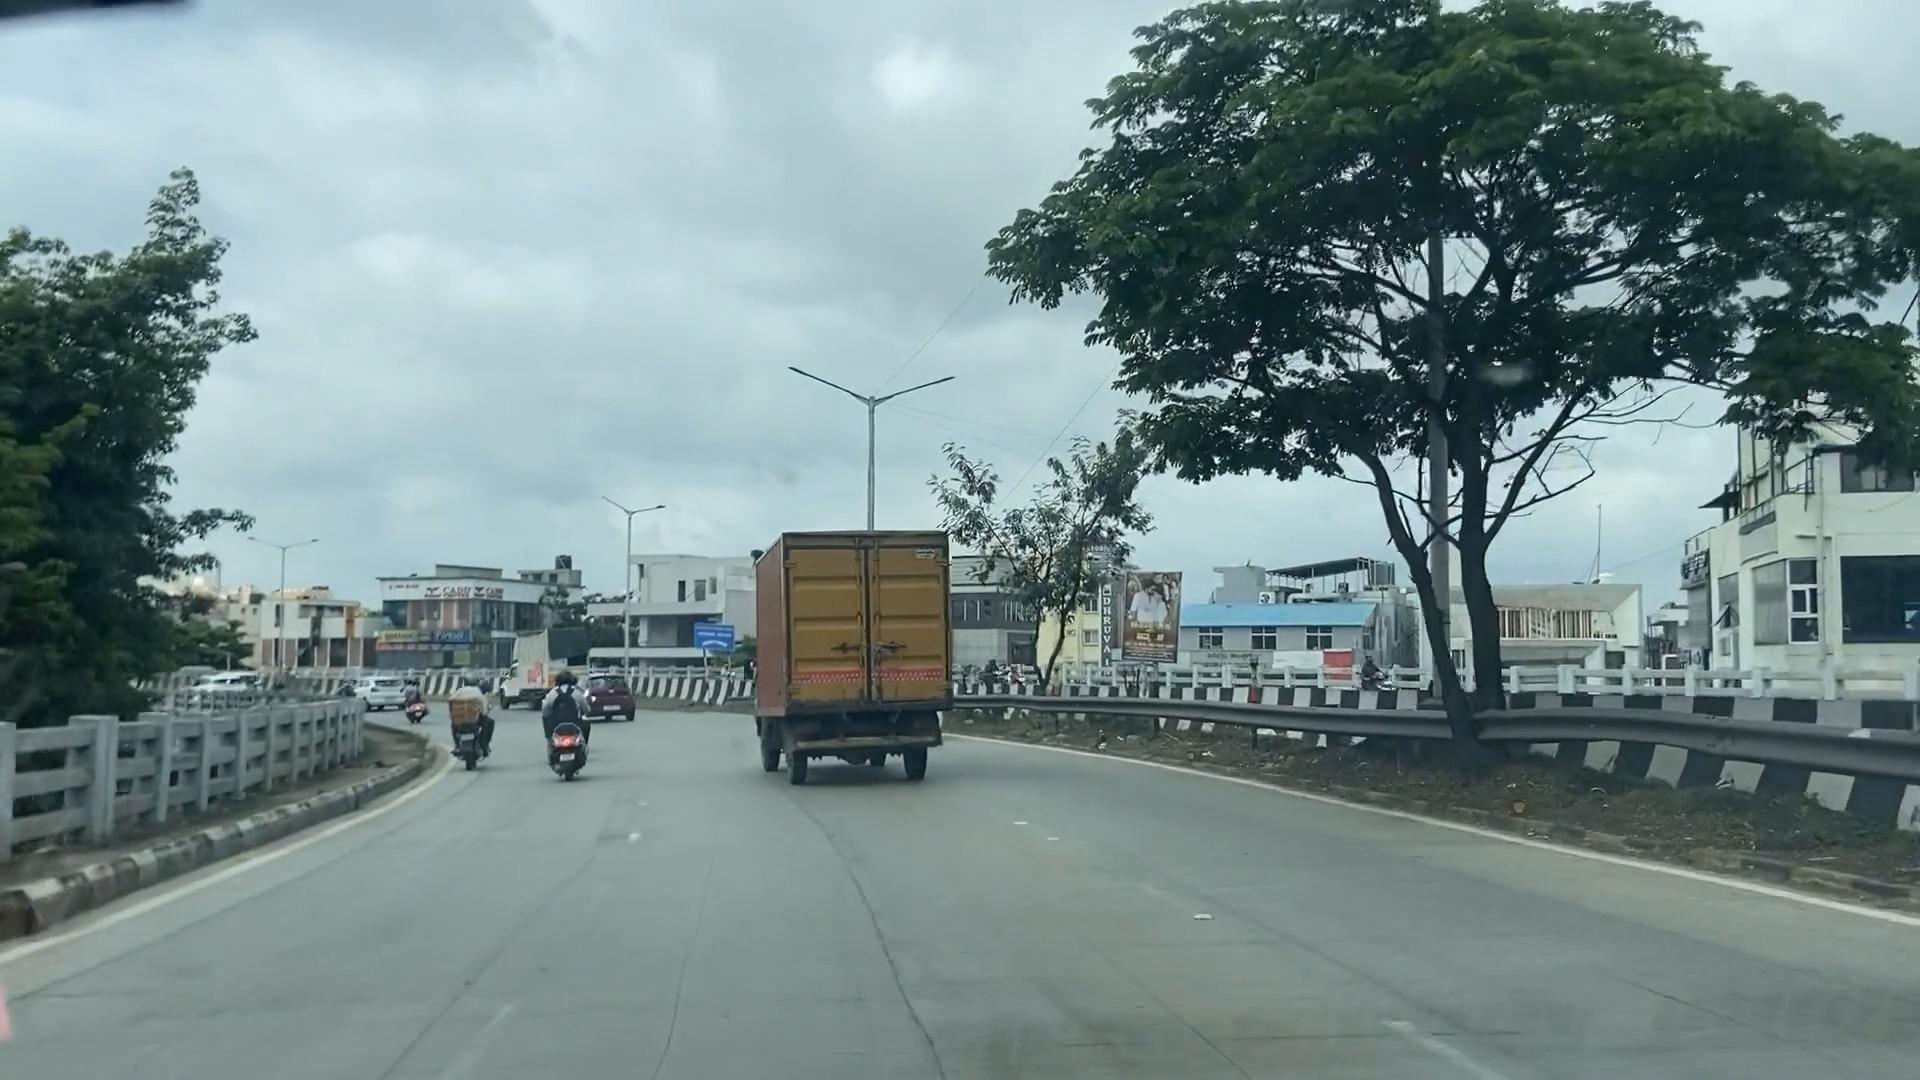HMV: (767, 530, 960, 783)
LMV: (530, 665, 609, 787), (436, 655, 495, 781)
